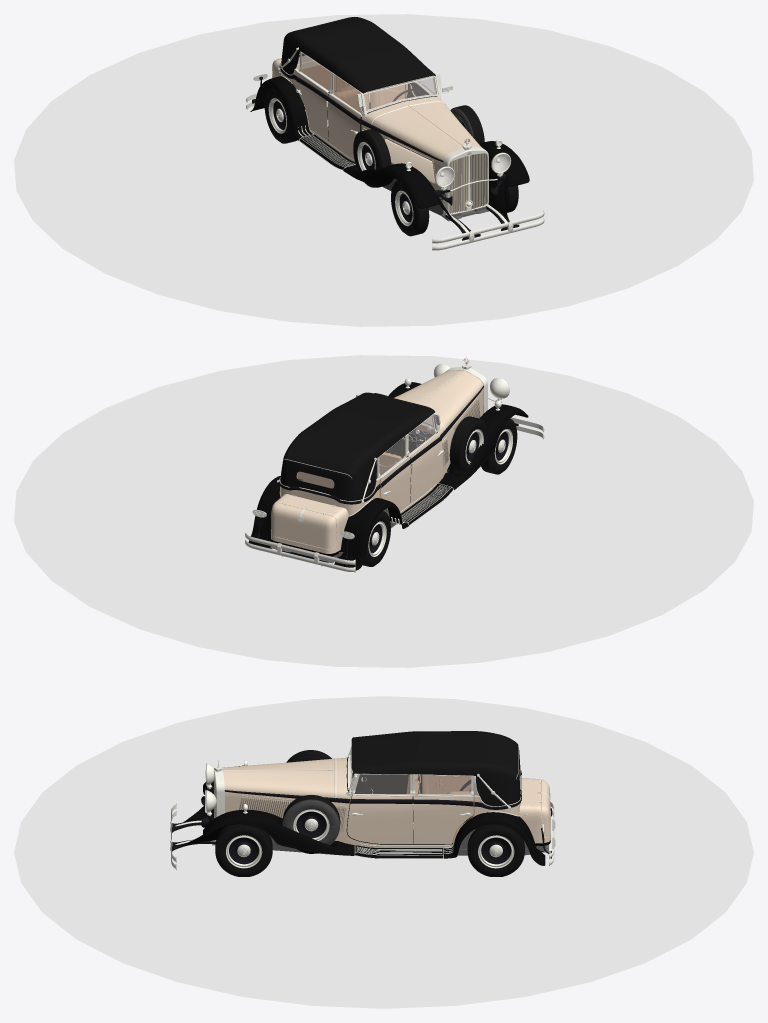
File: mercedesmayback.glb
The picture shows the model from 3 angles, top to bottom: view 1: azimuth 30°, elevation 25°; view 2: azimuth 150°, elevation 25°; view 3: azimuth 270°, elevation 25°; orthographic projection.
Parts seen in each view (by area): view 1: Circle, body, body005, body003, body016, body006, body015, body019, body002, body004, wheelFtR, wheelBkR; view 2: Circle, body, body005, body016, body003, body002, body006, body004, body019, wheelFtR, wheelBkR; view 3: Circle, body, body005, body016, body003, body002, body006, body019, wheelFtL, wheelBkL, body018, body004 (+3 smaller).
Part boxes in pixels (bbox=[...]): Circle: bbox=[14, 14, 753, 326]; body: bbox=[272, 55, 480, 205]; body005: bbox=[281, 17, 435, 93]; body003: bbox=[246, 38, 544, 250]; body016: bbox=[250, 76, 529, 231]; body006: bbox=[300, 52, 436, 112]; body015: bbox=[448, 153, 487, 213]; body019: bbox=[302, 65, 428, 140]; body002: bbox=[252, 55, 519, 240]; body004: bbox=[353, 105, 484, 187]; wheelFtR: bbox=[391, 180, 429, 236]; wheelBkR: bbox=[264, 88, 297, 143]; Circle: bbox=[14, 355, 753, 667]; body: bbox=[271, 370, 483, 553]; body005: bbox=[280, 392, 434, 500]; body016: bbox=[248, 382, 528, 570]; body003: bbox=[245, 363, 544, 572]; body002: bbox=[251, 385, 518, 567]; body006: bbox=[297, 416, 434, 488]; body004: bbox=[374, 393, 487, 473]; body019: bbox=[296, 424, 434, 501]; wheelFtR: bbox=[481, 419, 517, 474]; wheelBkR: bbox=[362, 511, 390, 566]; Circle: bbox=[14, 696, 753, 1008]; body: bbox=[223, 757, 550, 847]; body005: bbox=[351, 731, 520, 806]; body016: bbox=[181, 765, 545, 865]; body003: bbox=[170, 737, 555, 869]; body002: bbox=[172, 757, 551, 858]; body006: bbox=[350, 752, 470, 795]; body019: bbox=[347, 773, 478, 842]; wheelFtL: bbox=[215, 824, 272, 876]; wheelBkL: bbox=[467, 824, 524, 876]; body018: bbox=[283, 799, 340, 844]; body004: bbox=[282, 750, 340, 824].
Size of the model in its own units: 10 by 1.59 by 10.
